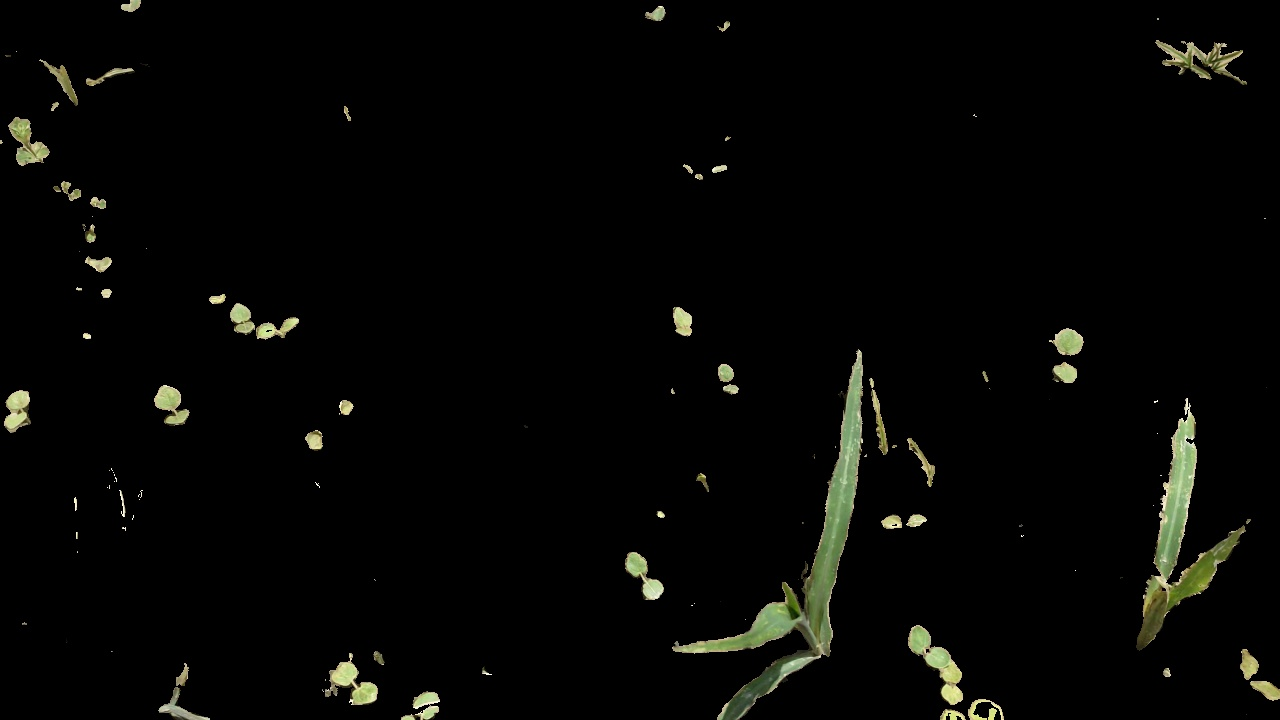crop: (768, 345, 869, 689), (1116, 381, 1228, 650), (658, 606, 877, 720)
weed: (896, 619, 1018, 720), (1037, 307, 1091, 402), (1149, 40, 1251, 83), (321, 655, 391, 708), (1230, 637, 1280, 705), (620, 551, 673, 601), (146, 384, 206, 428), (7, 115, 55, 169), (883, 502, 932, 538), (253, 311, 301, 344), (5, 387, 35, 438), (405, 685, 446, 720), (715, 360, 741, 401), (231, 298, 254, 337)
